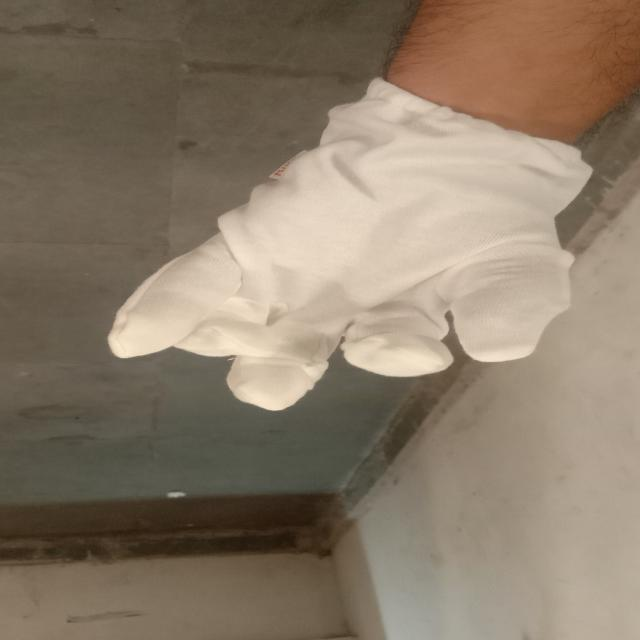gloved_hand: (99, 70, 596, 414)
